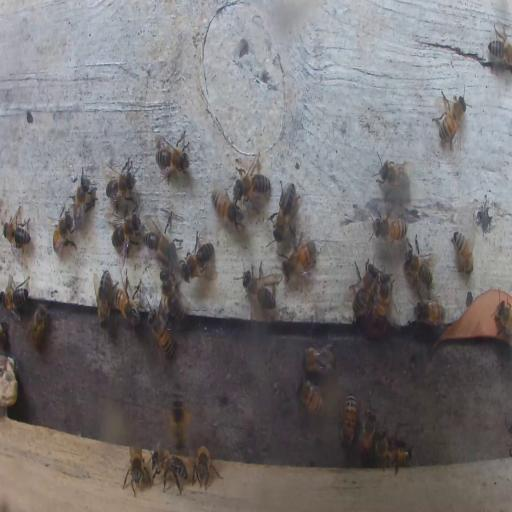nonpollenbee: (432, 88, 468, 150), (272, 179, 302, 240), (403, 235, 436, 290), (242, 262, 278, 312), (349, 256, 378, 318), (70, 167, 96, 231), (154, 448, 188, 496), (155, 132, 190, 178), (181, 233, 214, 280), (211, 186, 242, 231), (51, 203, 76, 258), (283, 240, 316, 280), (104, 160, 136, 200), (148, 309, 174, 358), (115, 279, 142, 326), (109, 213, 141, 252), (192, 444, 220, 488), (375, 158, 410, 193), (488, 19, 512, 70), (144, 224, 176, 262), (338, 392, 358, 447), (93, 269, 112, 326), (451, 229, 474, 276), (160, 271, 182, 320), (1, 276, 29, 314), (123, 446, 145, 494), (297, 375, 324, 414), (301, 344, 336, 374), (233, 171, 269, 200), (373, 271, 394, 320), (3, 211, 31, 246), (359, 404, 377, 458), (372, 212, 406, 240), (413, 298, 446, 326), (31, 302, 49, 350), (492, 302, 511, 342), (375, 424, 389, 467), (387, 444, 411, 464), (0, 322, 6, 344)
pollenbee: (167, 384, 191, 450)
